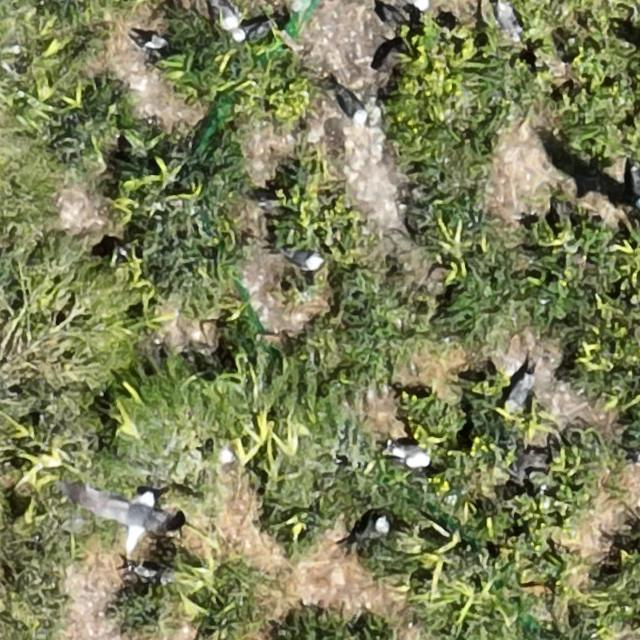F: (99, 490, 164, 541)
umineko: (351, 516, 387, 552), (505, 375, 533, 414), (230, 16, 267, 42), (392, 445, 428, 467), (285, 251, 321, 271), (340, 93, 364, 123), (497, 1, 518, 34), (216, 2, 234, 28), (630, 168, 638, 205)
